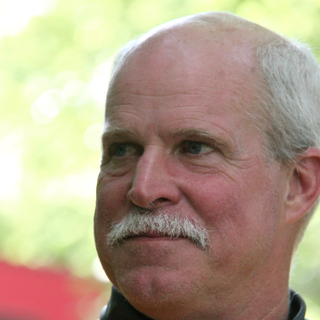eye: (168, 134, 221, 162), (104, 140, 143, 161)
